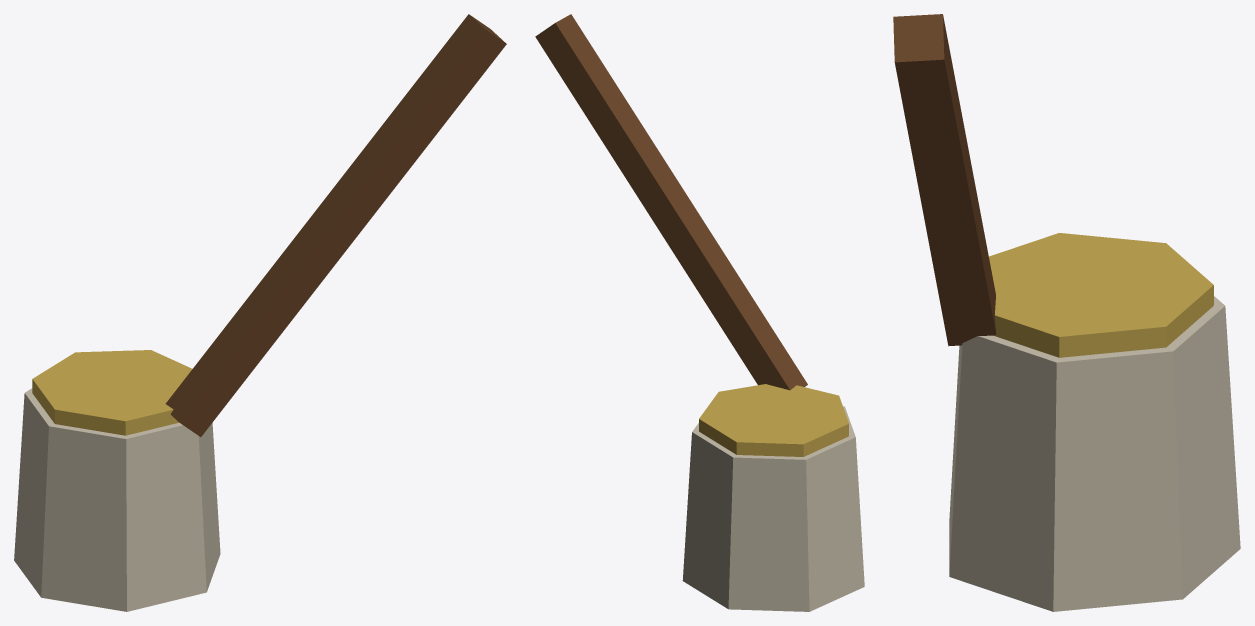
File: fld_seedbag.glb
3 views of the same model, side by side, from view 1: azimuth 30°, elevation 25°; view 2: azimuth 150°, elevation 25°; view 3: azimuth 270°, elevation 25° (orthographic). The views are drawn at different scales.
Parts seen in each view (by area): view 1: fld_seedbag; view 2: fld_seedbag; view 3: fld_seedbag.
Boxes of the visible parts, x1,y1,x2,y2 form: fld_seedbag: (14,14,506,611); fld_seedbag: (535,14,864,611); fld_seedbag: (893,14,1240,611).
Bounding box in the file's own units: 0.179 × 0.2148 × 0.0907.
